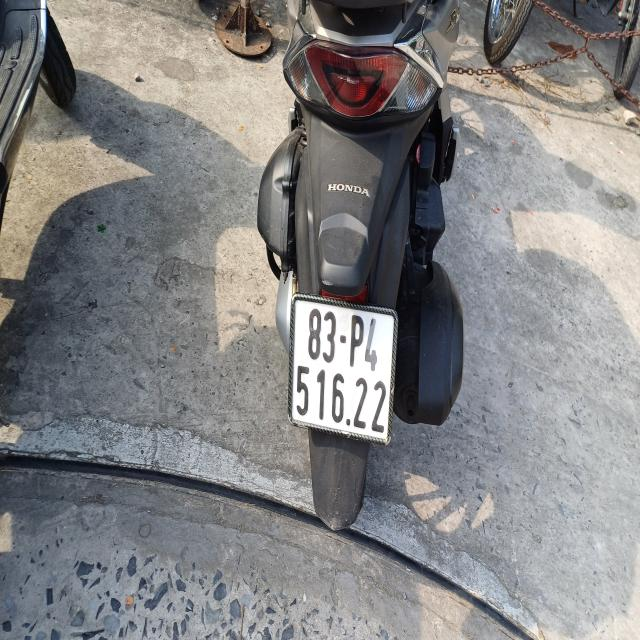1: (315, 367, 328, 427)
2: (352, 379, 371, 433), (371, 374, 387, 436)
3: (324, 305, 336, 366)
4: (365, 316, 379, 376)
5: (292, 364, 310, 418)
6: (332, 372, 347, 428)
8: (306, 306, 322, 369)
P: (348, 310, 365, 370)
